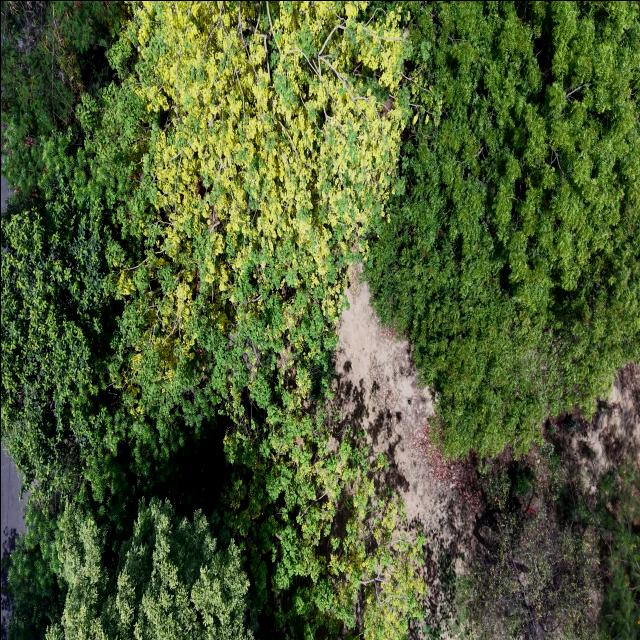DRY_AREA: (332, 266, 481, 625), (332, 266, 472, 639), (333, 266, 477, 621), (334, 276, 457, 584), (334, 266, 467, 528), (334, 267, 457, 529), (335, 276, 444, 523), (547, 363, 639, 498), (559, 363, 639, 492), (587, 363, 639, 473), (1, 452, 26, 562), (1, 451, 25, 561), (1, 177, 9, 211)
PATHWAYS: (1, 449, 24, 560)
VEGETATION_TREE: (1, 1, 639, 639), (1, 1, 420, 638), (2, 4, 403, 464), (77, 3, 403, 416), (366, 1, 639, 457), (456, 416, 639, 639), (45, 500, 252, 639), (457, 442, 598, 639), (1, 1, 122, 196), (596, 461, 639, 639)
